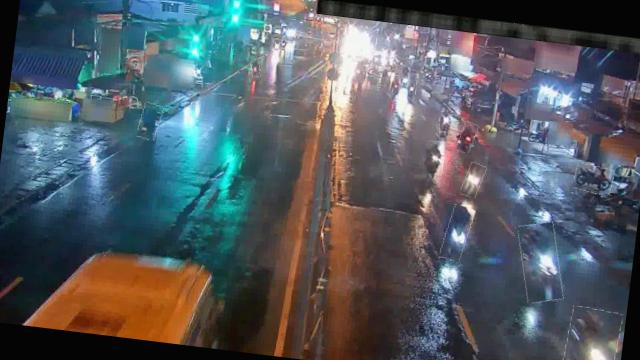Bike: (513, 220, 566, 305), (558, 304, 621, 360), (440, 204, 473, 262), (572, 164, 614, 195), (136, 102, 162, 139), (461, 162, 485, 198), (422, 140, 444, 175), (456, 121, 476, 154), (437, 110, 453, 136), (249, 59, 261, 78), (407, 78, 417, 99), (392, 74, 401, 95)
